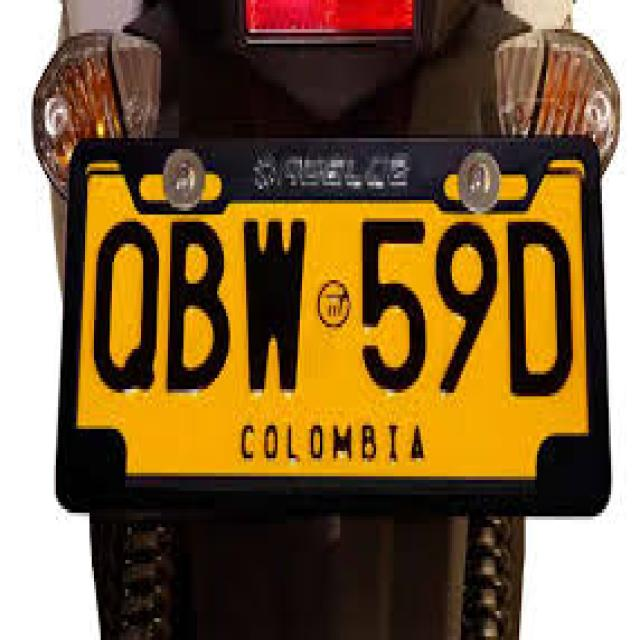number plate: (56, 135, 606, 505)
